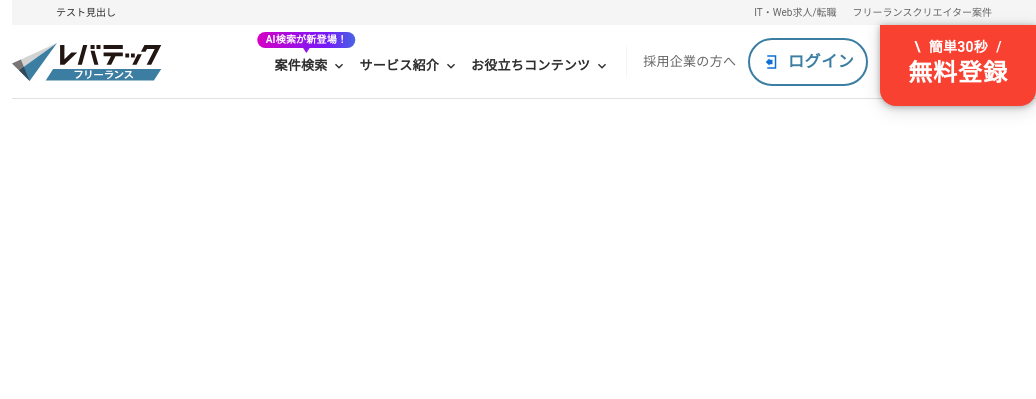
Test: HeaderPc › pCヘッダー / 検証: サービス紹介メニュー / 期待: ご利用の流れリンクを表示
Hover over the link "サービス紹介" at (409, 62), box [359,40,459,83]
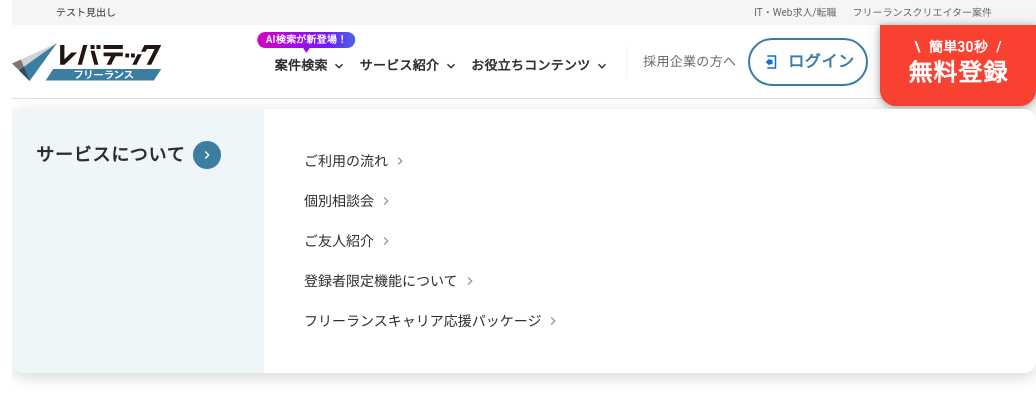
Check: the link "ご友人紹介" is shown, box [304,233,394,249]
